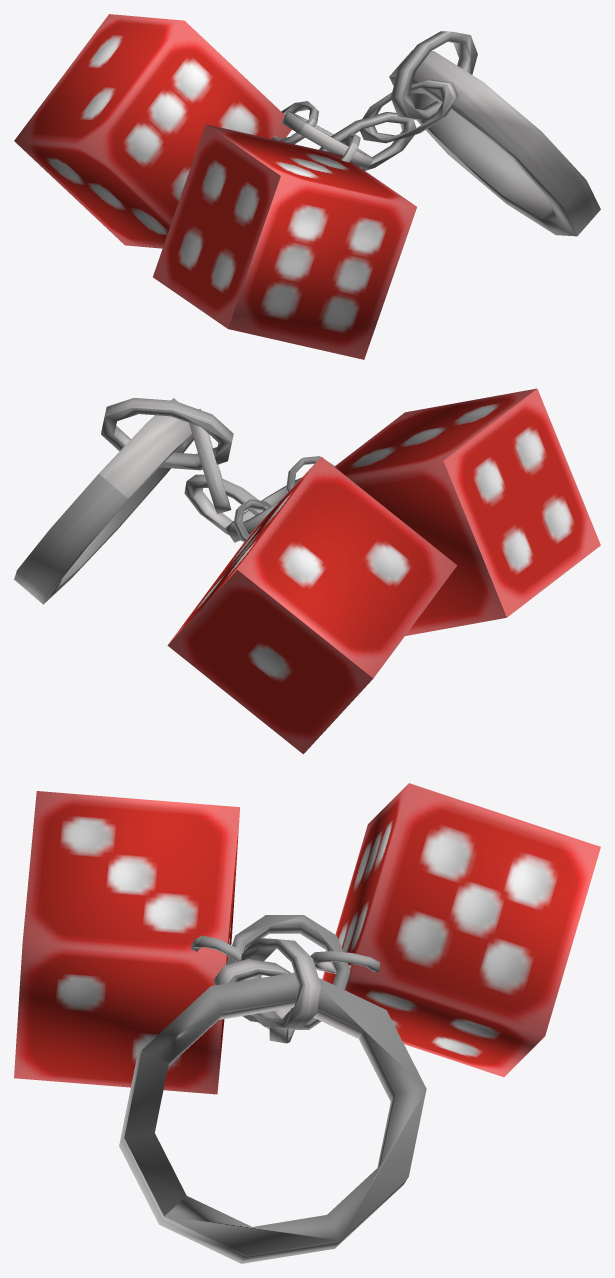
The model's file is WorldItem_DiceHung.fbx.
3 renders of one model, top to bottom at view 1: azimuth 30°, elevation 25°; view 2: azimuth 150°, elevation 25°; view 3: azimuth 270°, elevation 25°, orthographic. The views are drawn at different scales.
Visible parts, largest first — view 1: DiceChain; view 2: DiceChain; view 3: DiceChain.
Boxes of the visible parts, left/top/right/bottom form: DiceChain: left=14, top=14, right=600, bottom=359; DiceChain: left=14, top=388, right=600, bottom=754; DiceChain: left=14, top=783, right=600, bottom=1263.
Size of the model in its own units: 0.0575 by 0.0309 by 0.0534.
